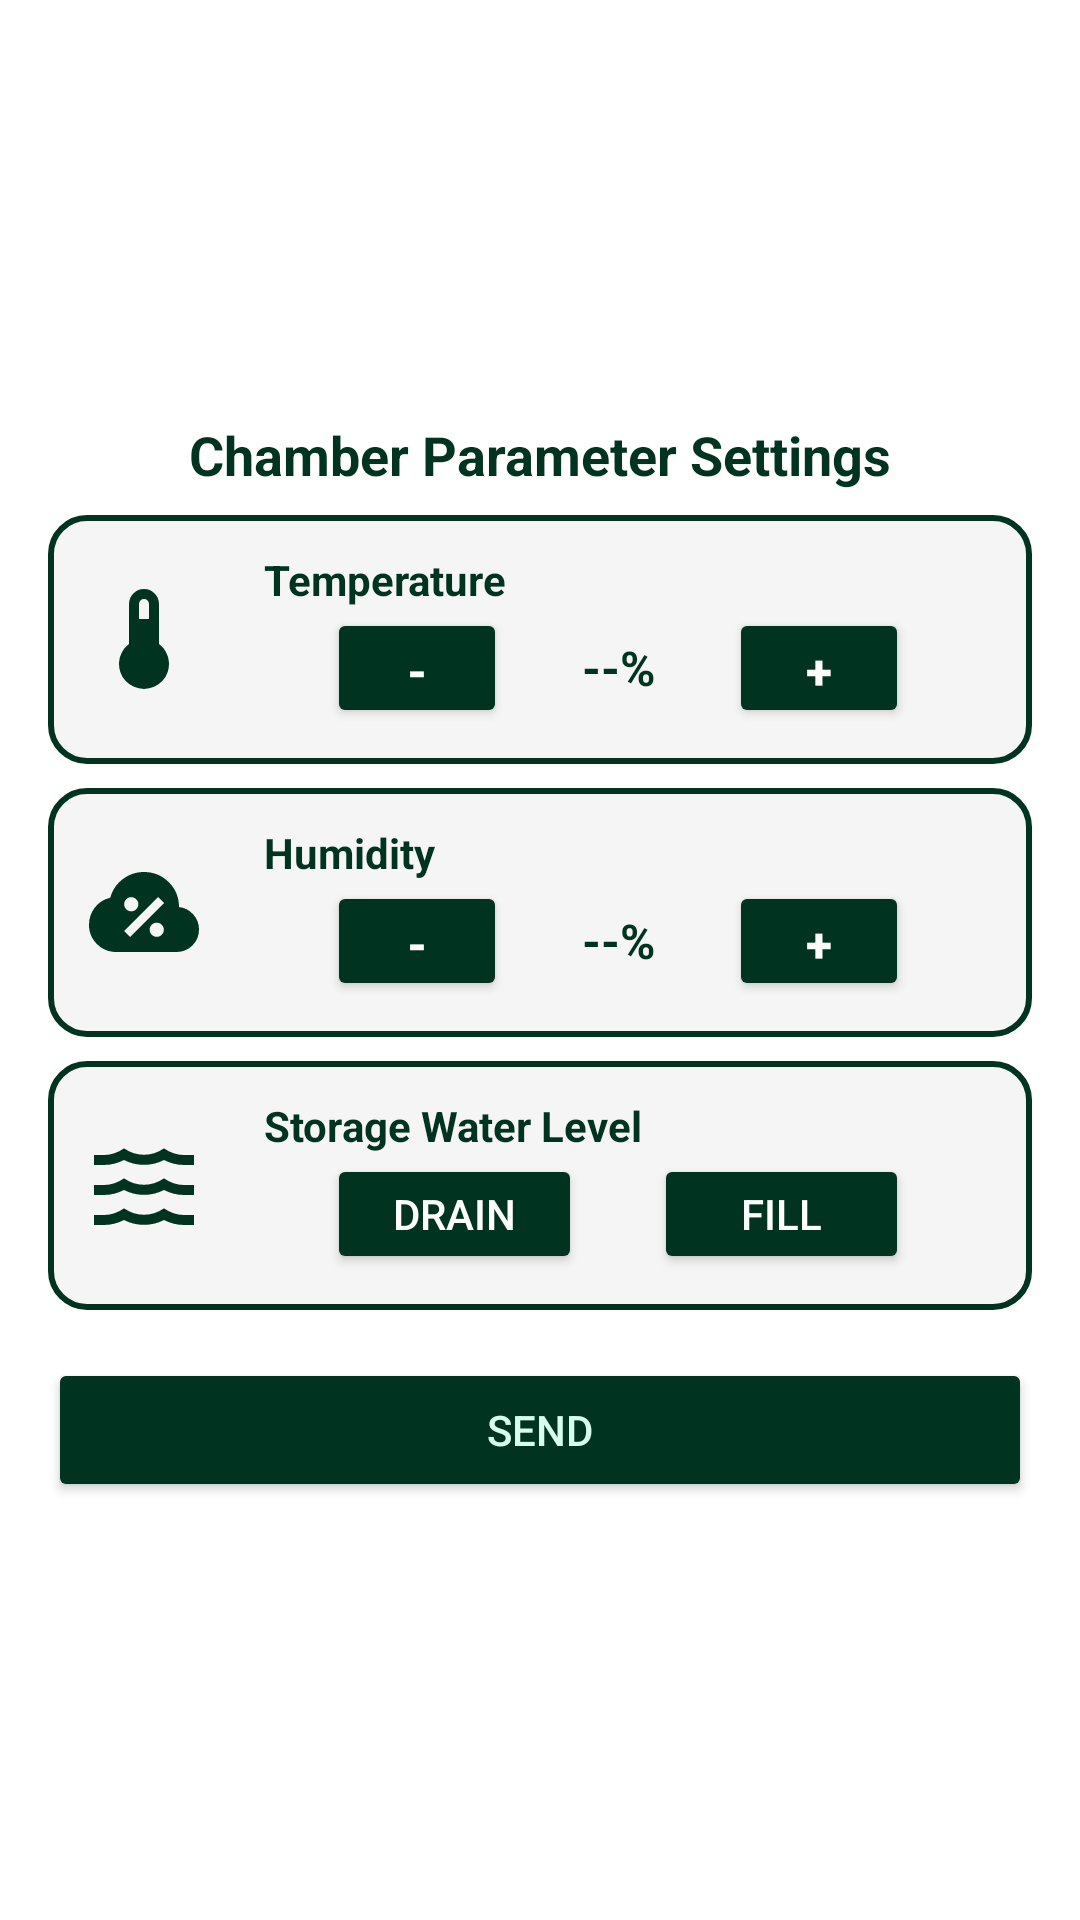

Icon click points for this 1080w x 1920h phone screenshot, format [x,y]:
cloud percent: [144,912]
thermometer: [144,639]
waves: [144,1186]
